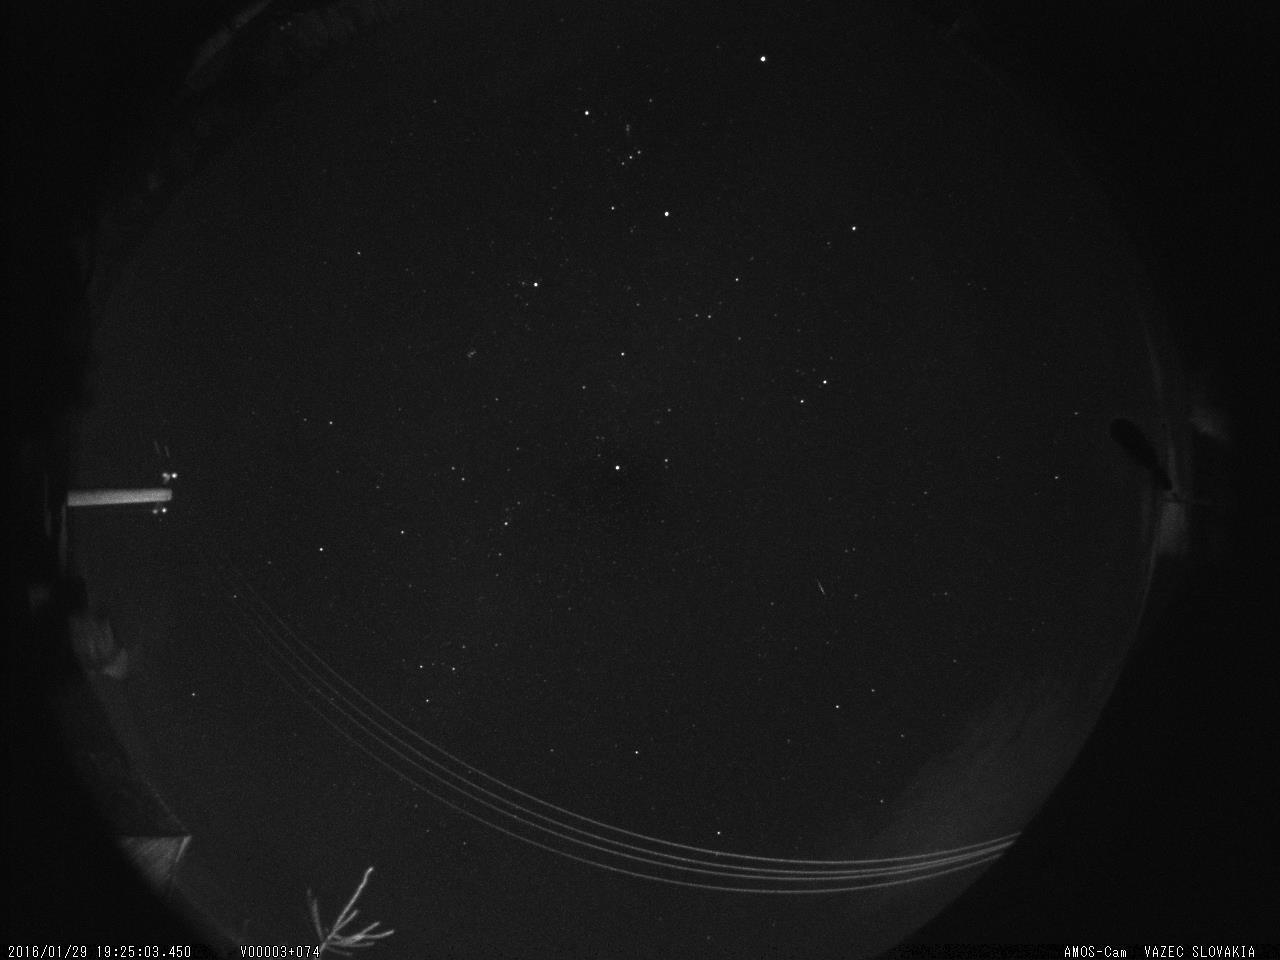Meteor: (812, 577, 830, 600), (622, 120, 636, 143)
